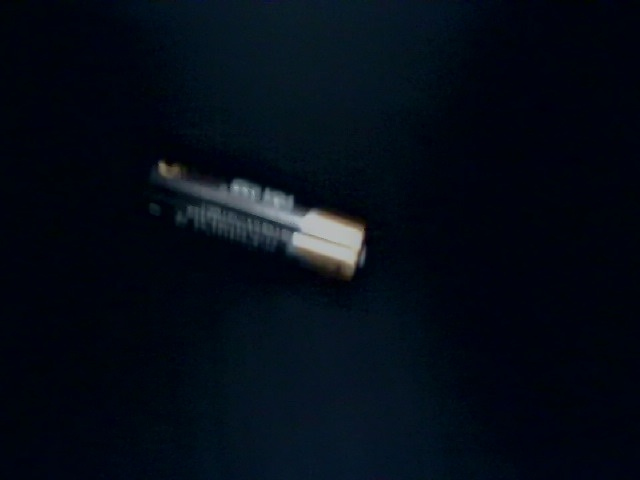YHLJ: (416, 351, 530, 480)
